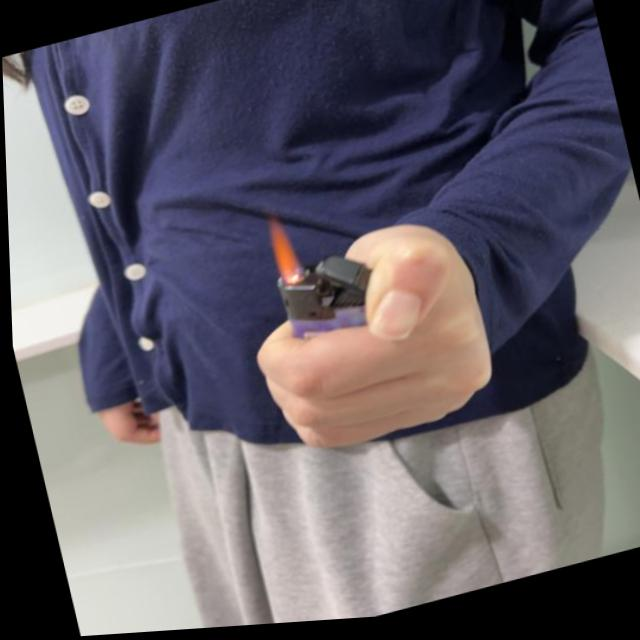Fire: (262, 215, 296, 291)
